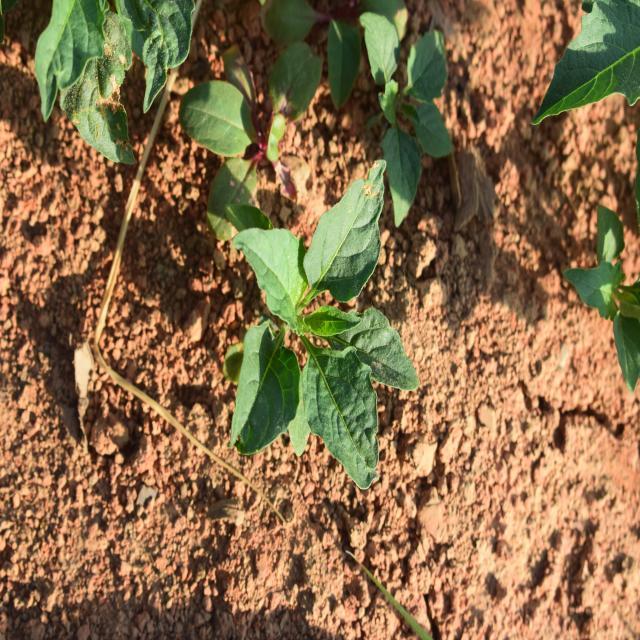Black_nightshade: (225, 165, 425, 499)
